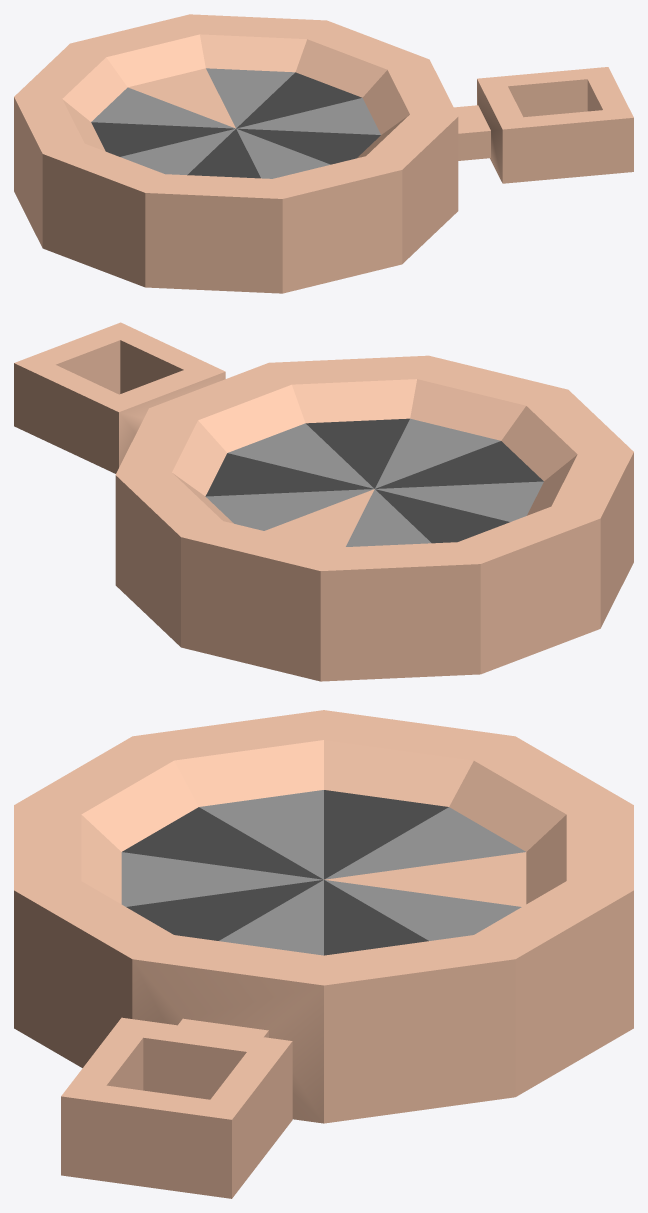
File: compass.glb
3 views of the same model, one above another, from view 1: azimuth 30°, elevation 25°; view 2: azimuth 150°, elevation 25°; view 3: azimuth 270°, elevation 25° (orthographic). The views are drawn at different scales.
Parts seen in each view (by area): view 1: compass-col; view 2: compass-col; view 3: compass-col.
Part boxes in pixels (box(x1,y1,x2,y2)): compass-col: box(14, 14, 633, 293); compass-col: box(14, 322, 633, 681); compass-col: box(14, 710, 633, 1198).
Bounding box in the file's own units: 0.00176 × 0.000299 × 0.00122.
1 material, 1 textured.
